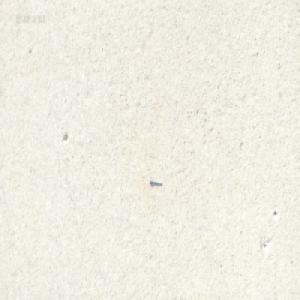Nail: (149, 176, 162, 185)
